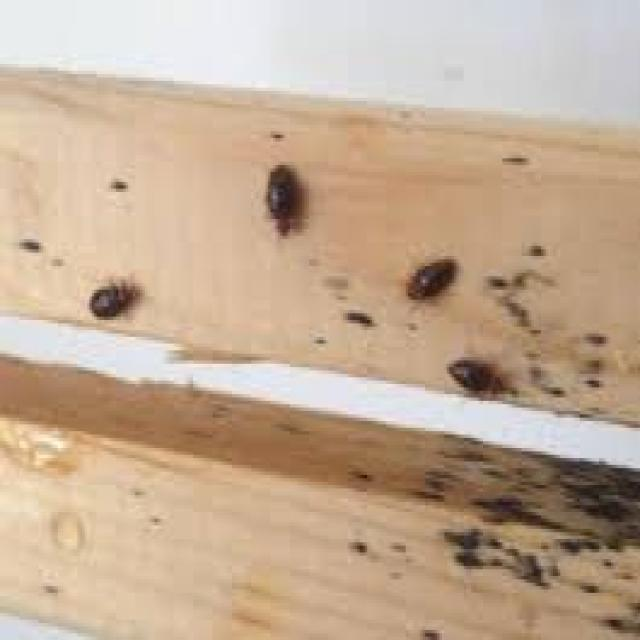kene: (244, 158, 333, 243)
